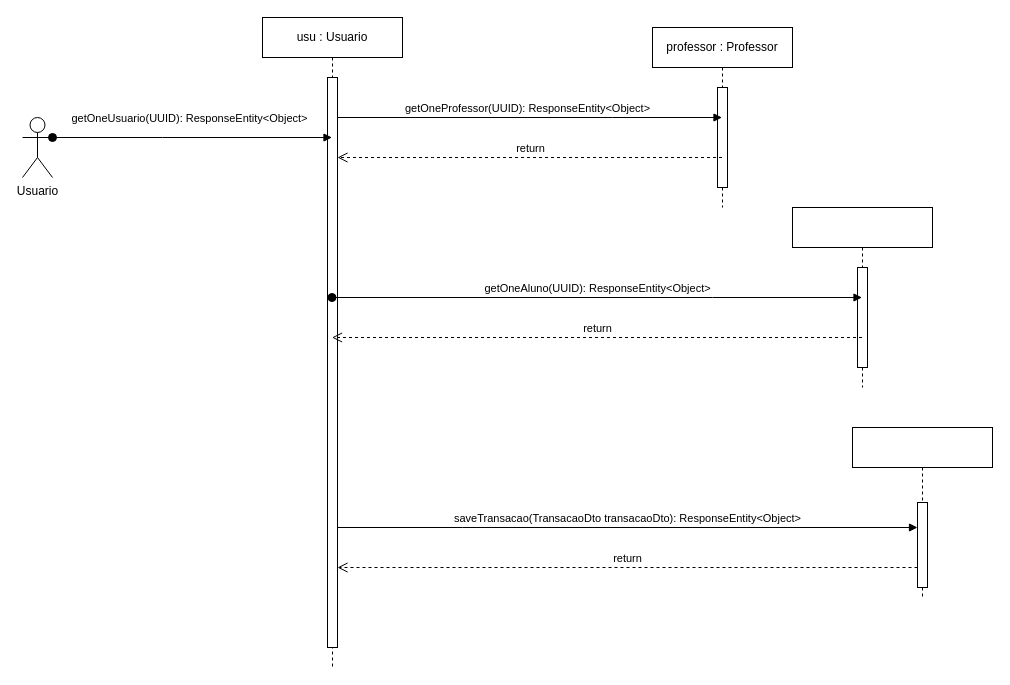
Some shapes in this 1010 by 685 pixel diagram are drawn without their labels. Here are the shapes that lost their labels. From the top down, the centre of each, then its label:
(x=862, y=297): aluno : Aluno
(x=922, y=512): transacao : Transacao
